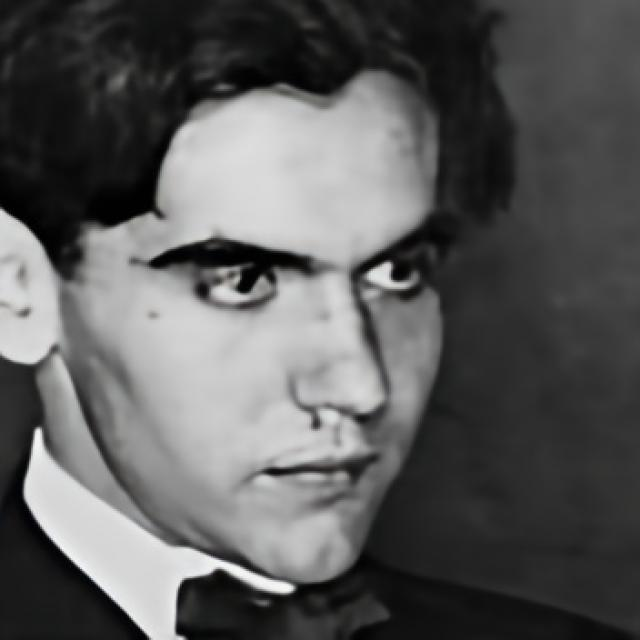anger: (89, 134, 444, 580)
